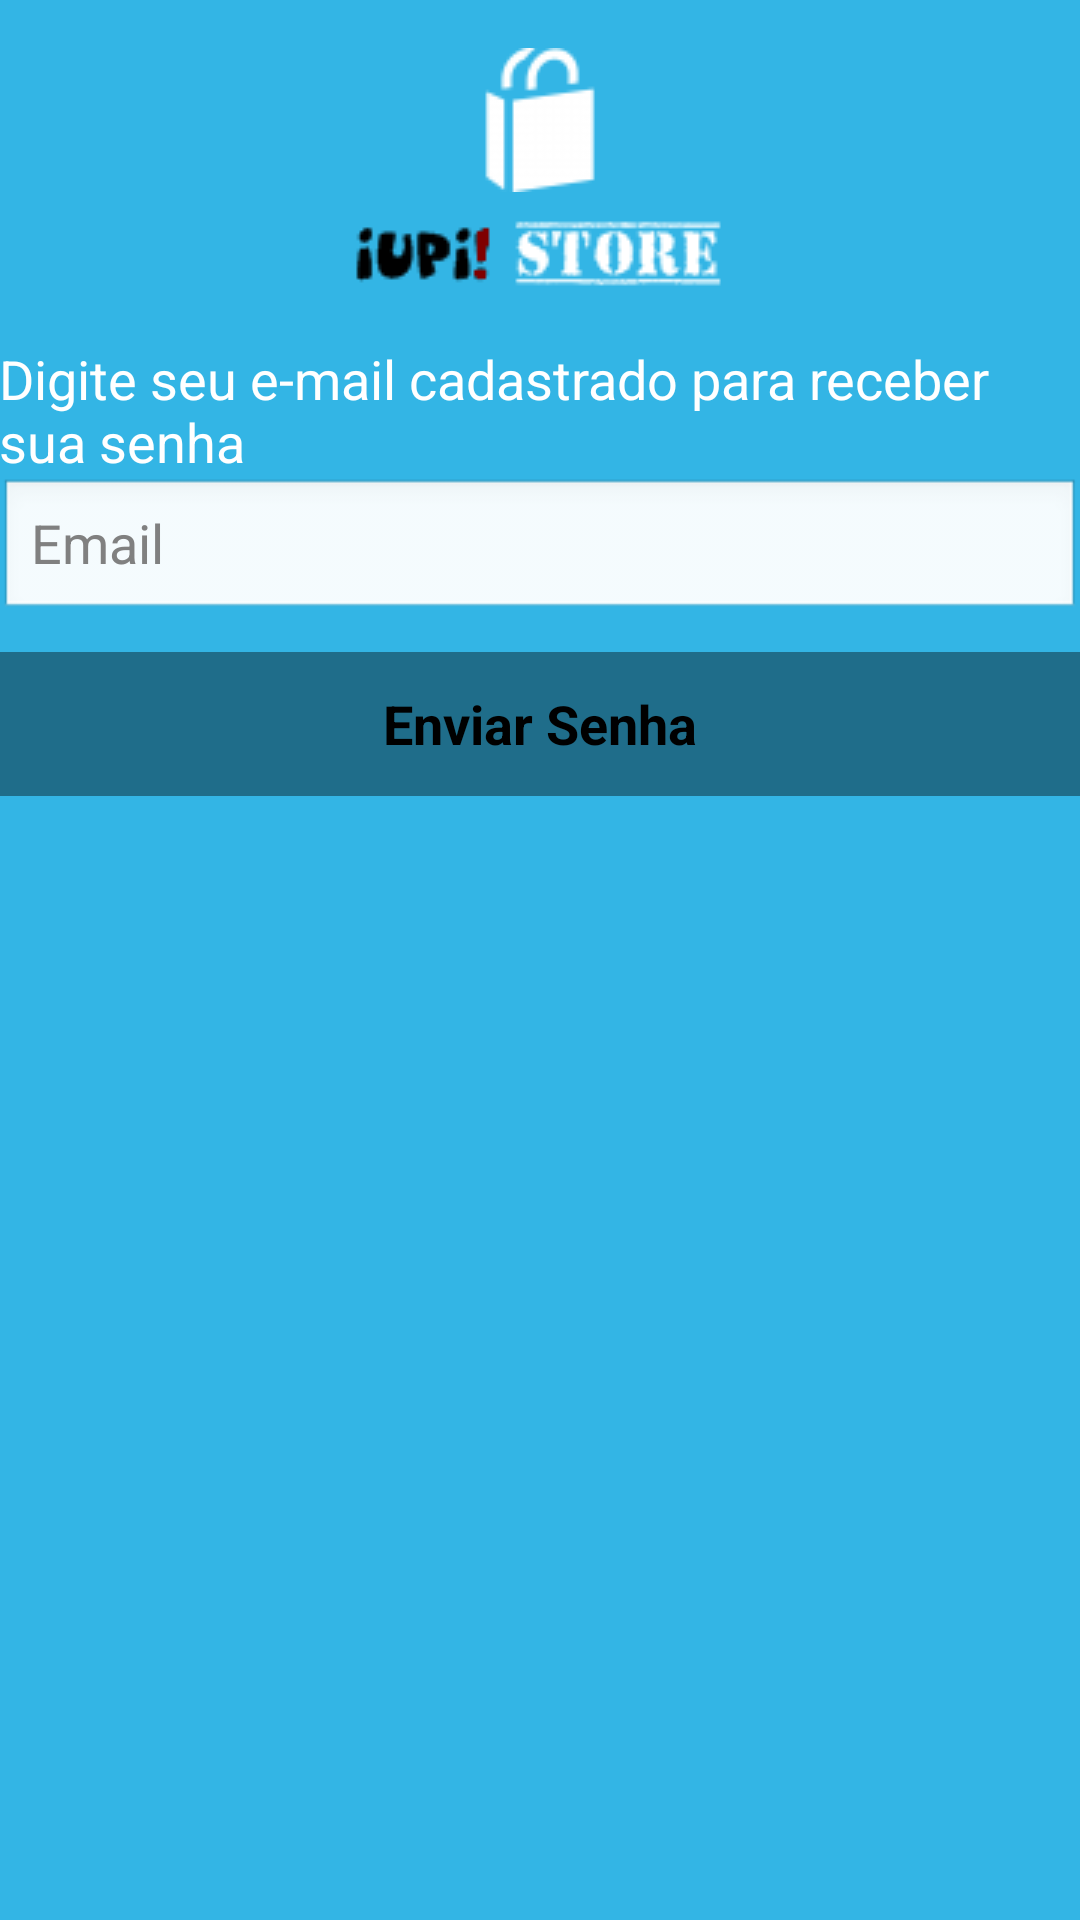

Named icons in this screenshot (1080×1920) and their bounding boxes, {"left": x1, "top": y1, "right": x2, "bottom": y2}:
sacola compras: {"left": 485, "top": 48, "right": 595, "bottom": 192}
